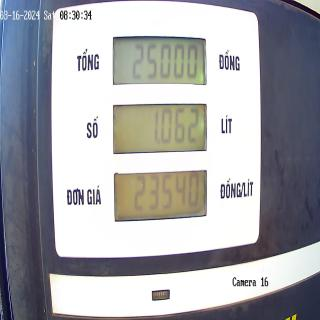screen: (112, 33, 210, 224)
